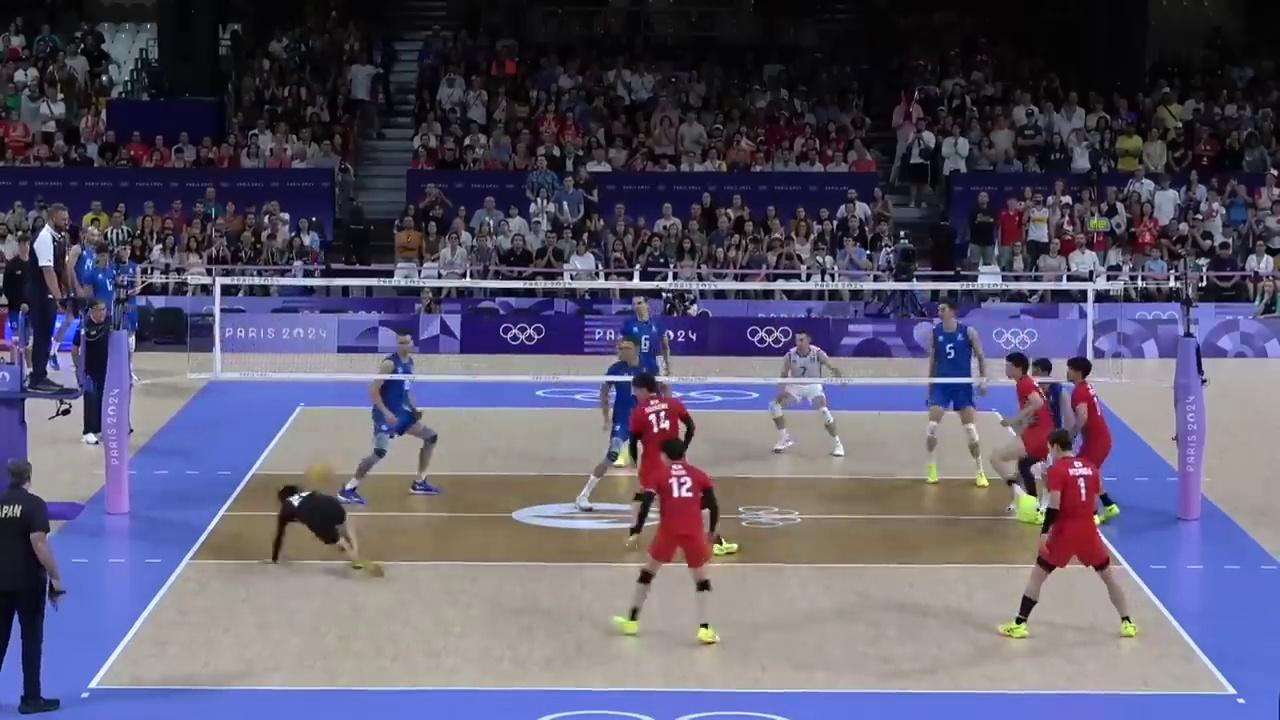ball: (303, 463, 338, 492)
